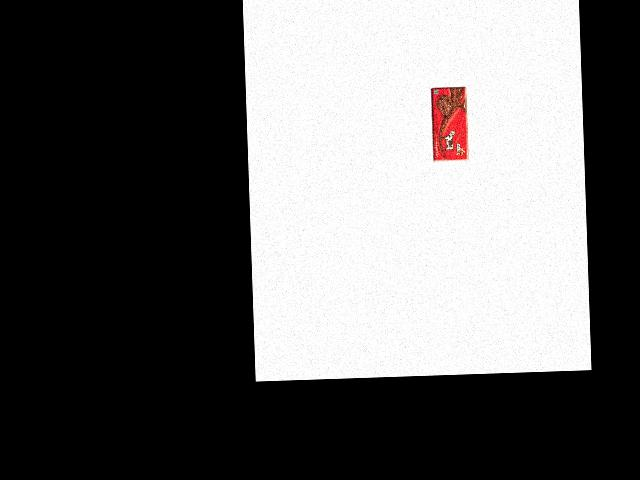chocolate: (426, 84, 470, 164)
